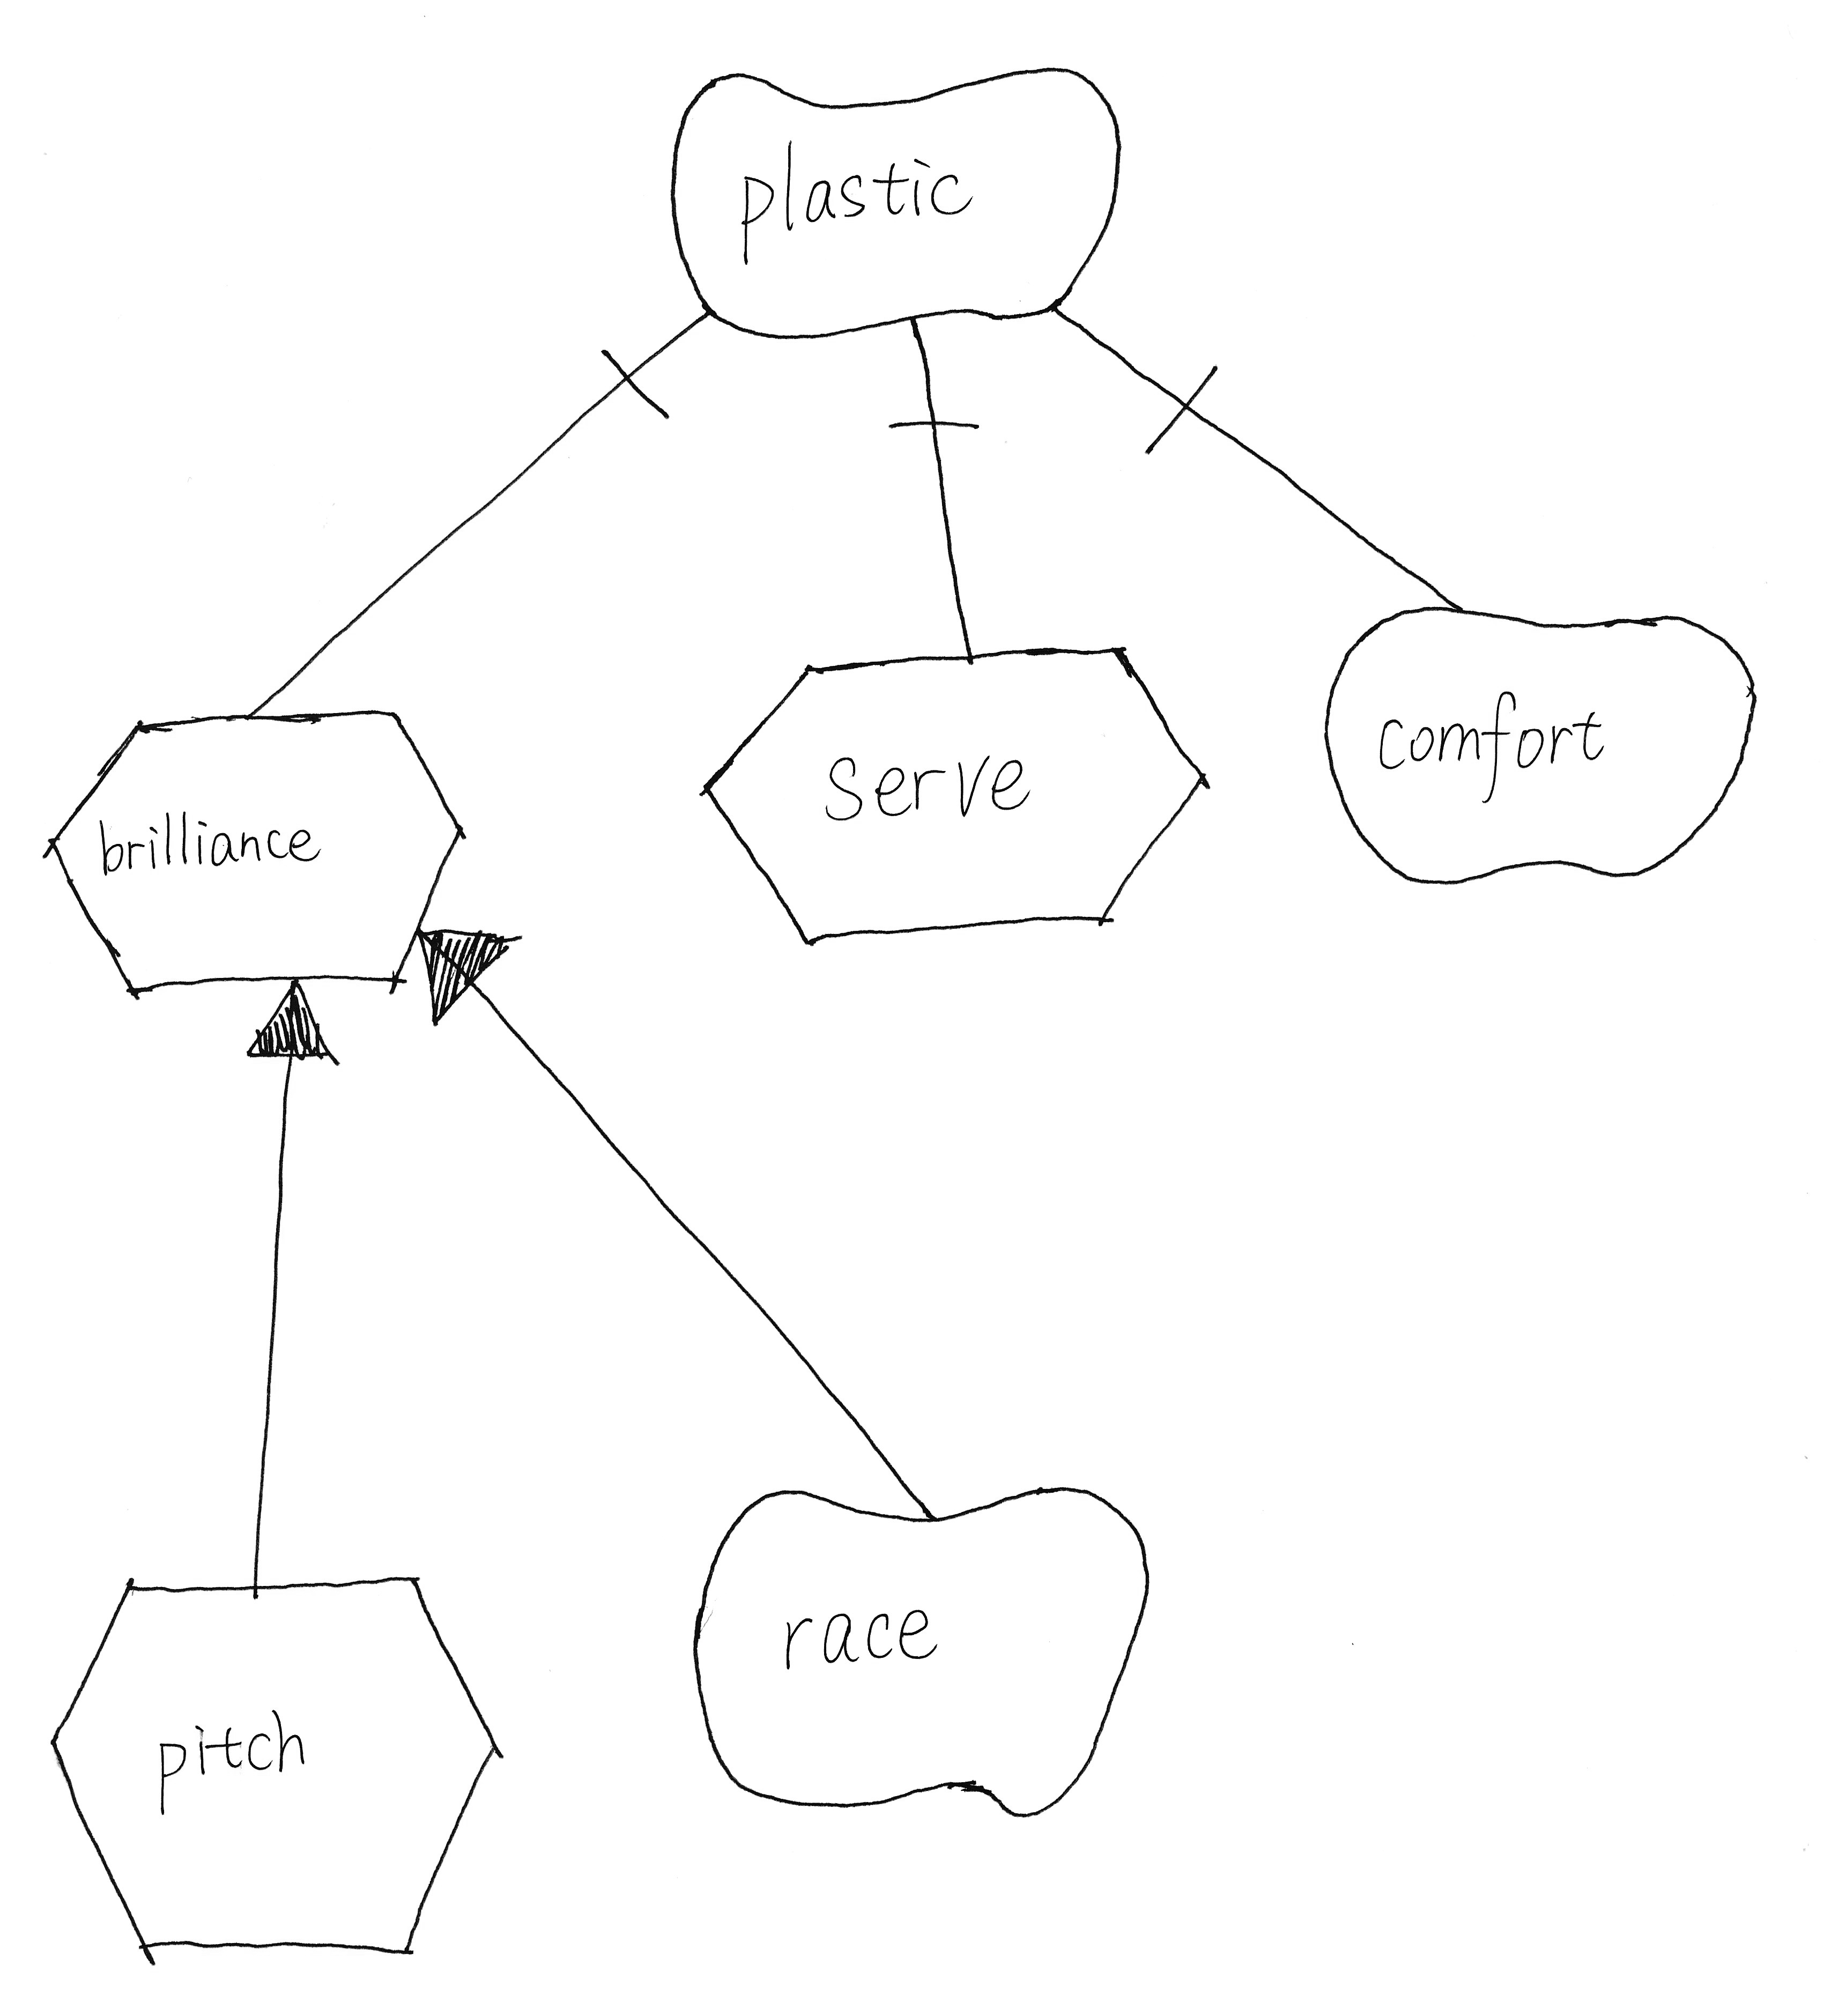and: (1036, 279, 1245, 462), (585, 279, 727, 441), (881, 300, 983, 474)
or: (400, 894, 537, 1047), (232, 968, 355, 1089)
quality: (662, 1461, 1173, 1833), (1303, 581, 1782, 910), (651, 40, 1134, 355)
task: (19, 1535, 527, 1986), (683, 616, 1238, 973), (25, 687, 502, 1026)
